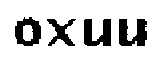o: (14, 17, 43, 49)
u: (80, 15, 114, 51), (116, 16, 149, 49)
x: (47, 17, 74, 49)
